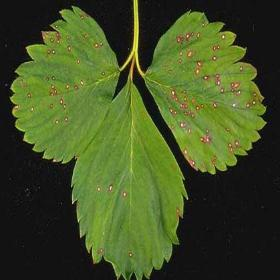Leaf Spot: (71, 73, 189, 279), (144, 9, 268, 175), (9, 6, 121, 164)
